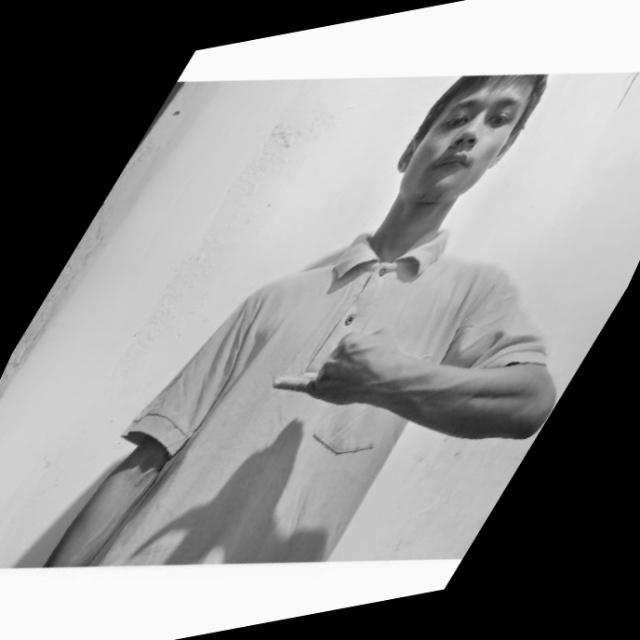J: (262, 322, 404, 417)
